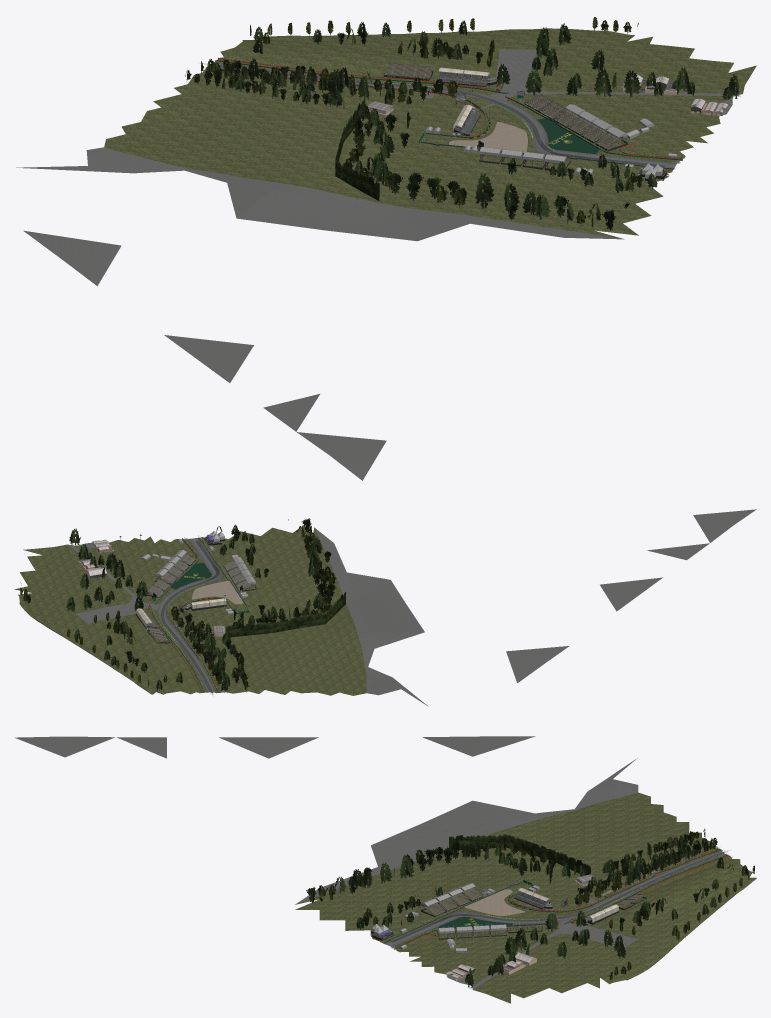
3 renders of one model, top to bottom at view 1: azimuth 30°, elevation 25°; view 2: azimuth 150°, elevation 25°; view 3: azimuth 270°, elevation 25°, orthographic. The views are drawn at different scales.
Visible parts, largest first — view 1: tile_t02; view 2: tile_t02; view 3: tile_t02.
Boxes of the visible parts, <box> form: tile_t02: <box>16,17,756,480</box>; tile_t02: <box>14,509,756,706</box>; tile_t02: <box>15,736,756,1003</box>.
Bounding box in the file's own units: 800 × 37.68 × 933.
46 materials, 46 textured.
